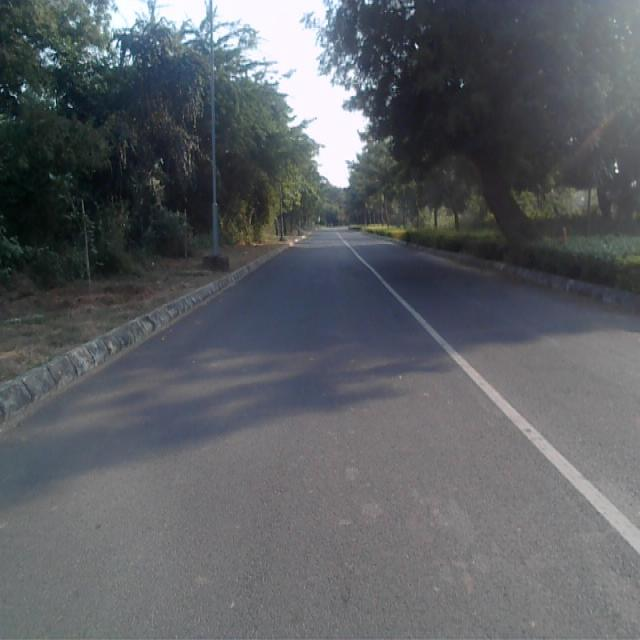lane: (0, 231, 640, 640)
